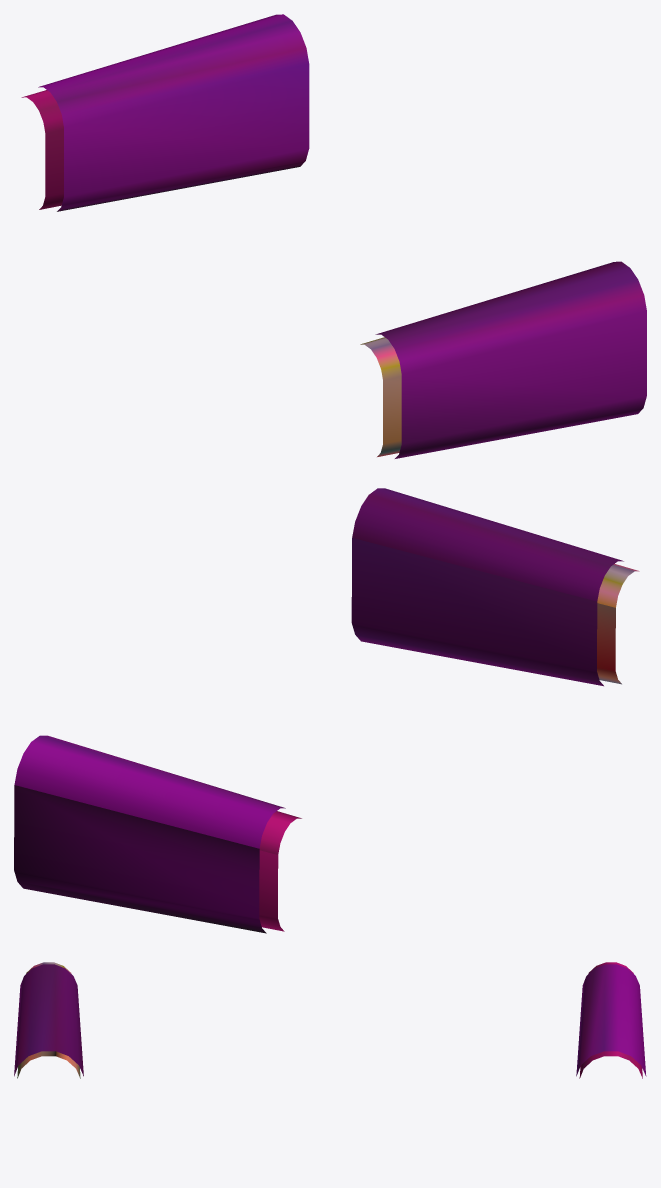
File: OctaneAmbientBoost_SM.gltf
The picture shows the model from 3 angles, top to bottom: view 1: azimuth 30°, elevation 25°; view 2: azimuth 150°, elevation 25°; view 3: azimuth 270°, elevation 25°; orthographic projection. The views are drawn at different scales.
Visible parts, largest first — view 1: OctaneAmbientBoost_SM; view 2: OctaneAmbientBoost_SM; view 3: OctaneAmbientBoost_SM.
Part boxes in pixels (bbox=[...]): OctaneAmbientBoost_SM: bbox=[21, 14, 646, 458]; OctaneAmbientBoost_SM: bbox=[14, 488, 639, 933]; OctaneAmbientBoost_SM: bbox=[14, 962, 646, 1078].
Bounding box in the file's own units: 0.1296 × 0.0703 × 0.3302.
